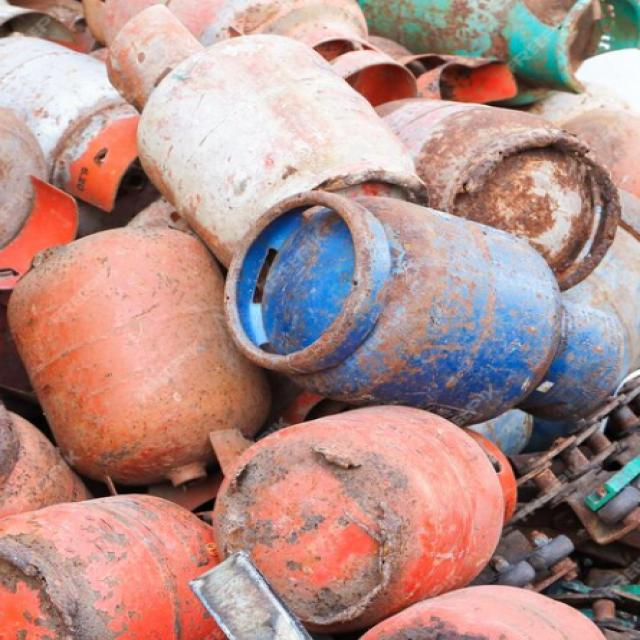cylinder: (222, 190, 626, 428), (107, 4, 430, 270), (6, 226, 277, 512)
